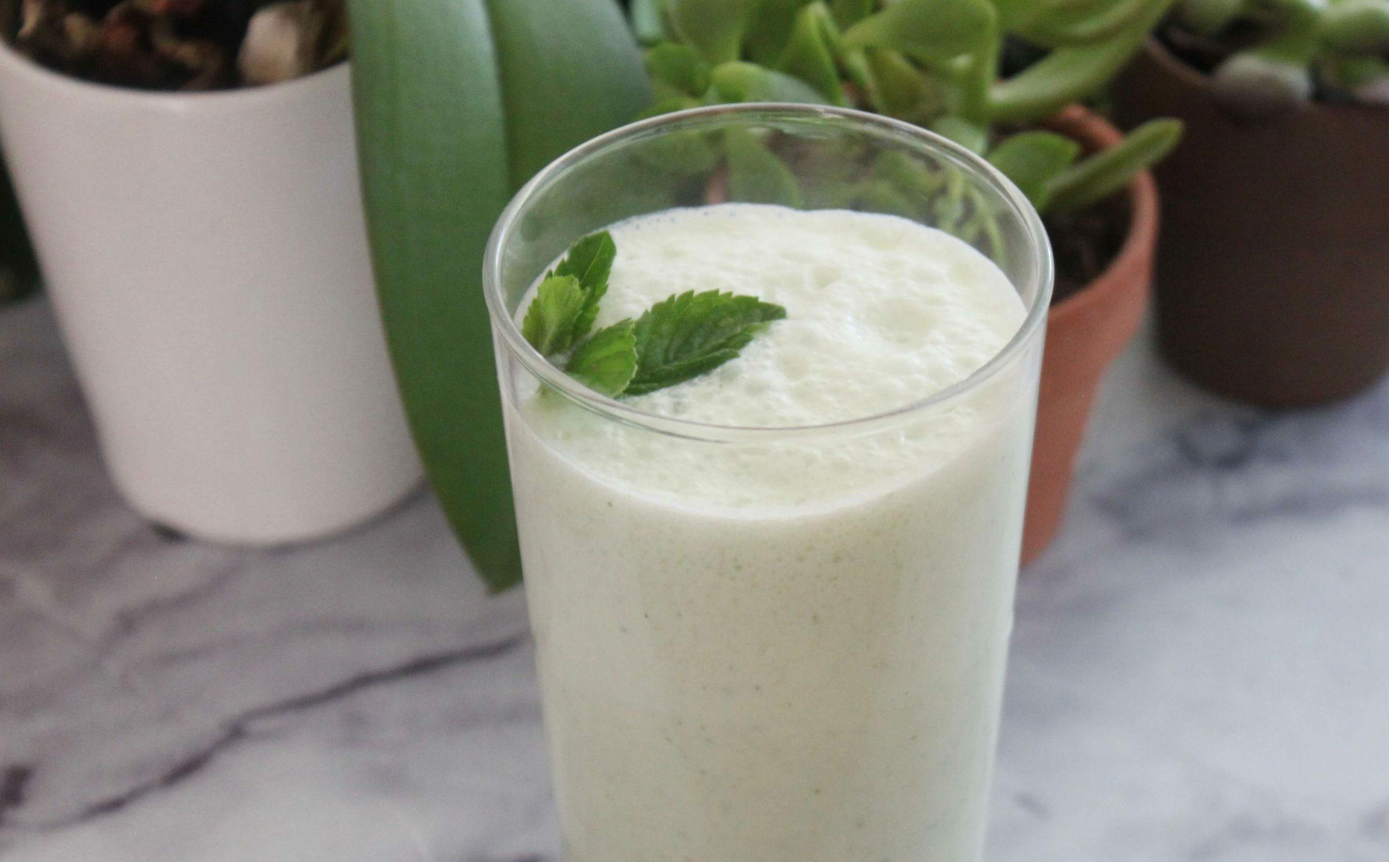Lassi: (498, 195, 1056, 861)
